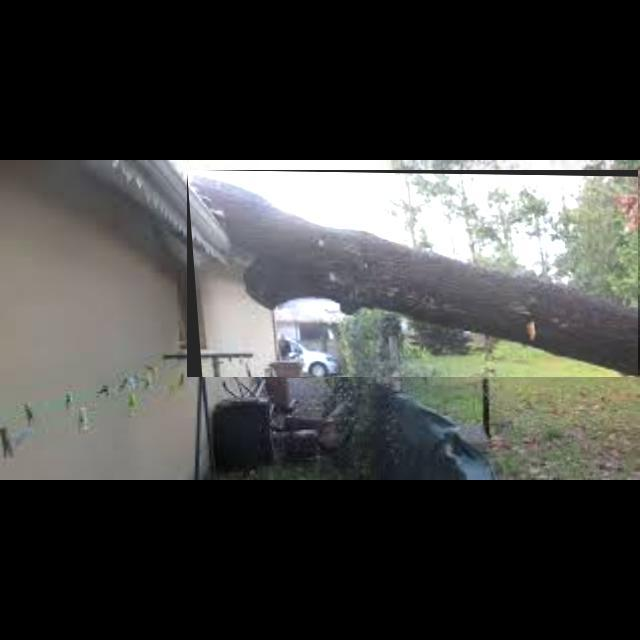fallen_tree: (187, 170, 639, 378)
